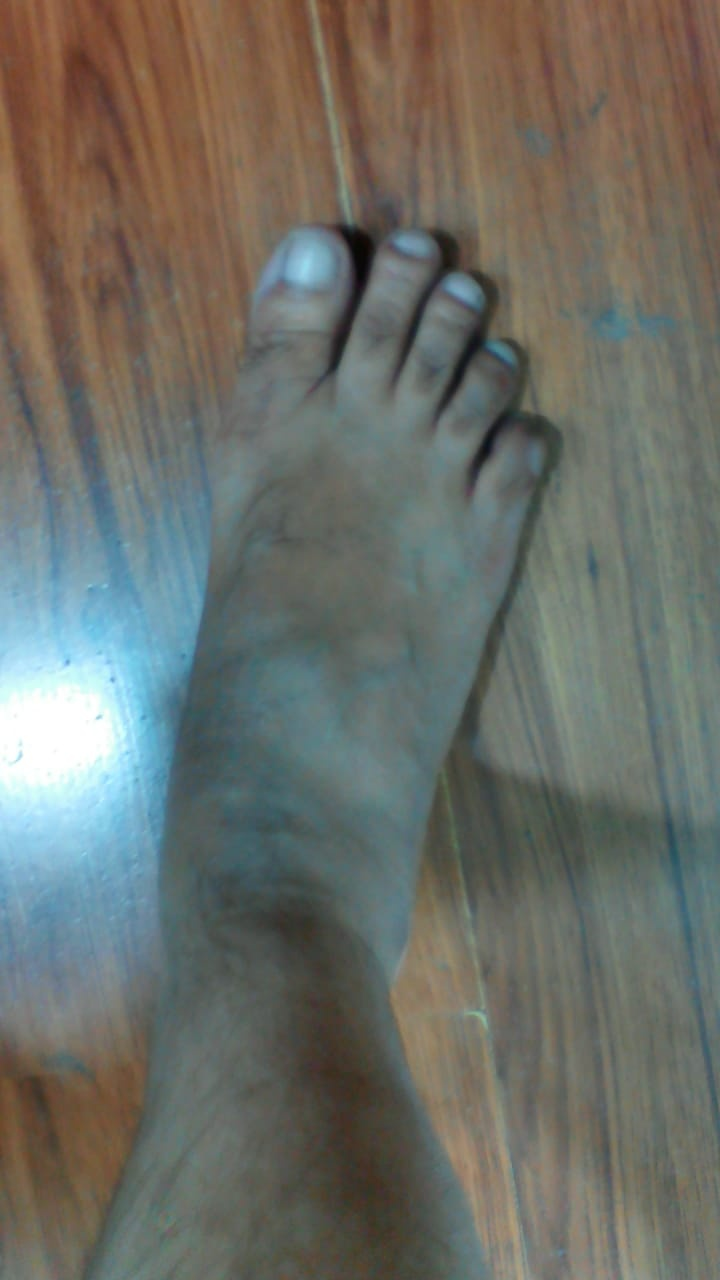feet: (124, 191, 567, 1025)
